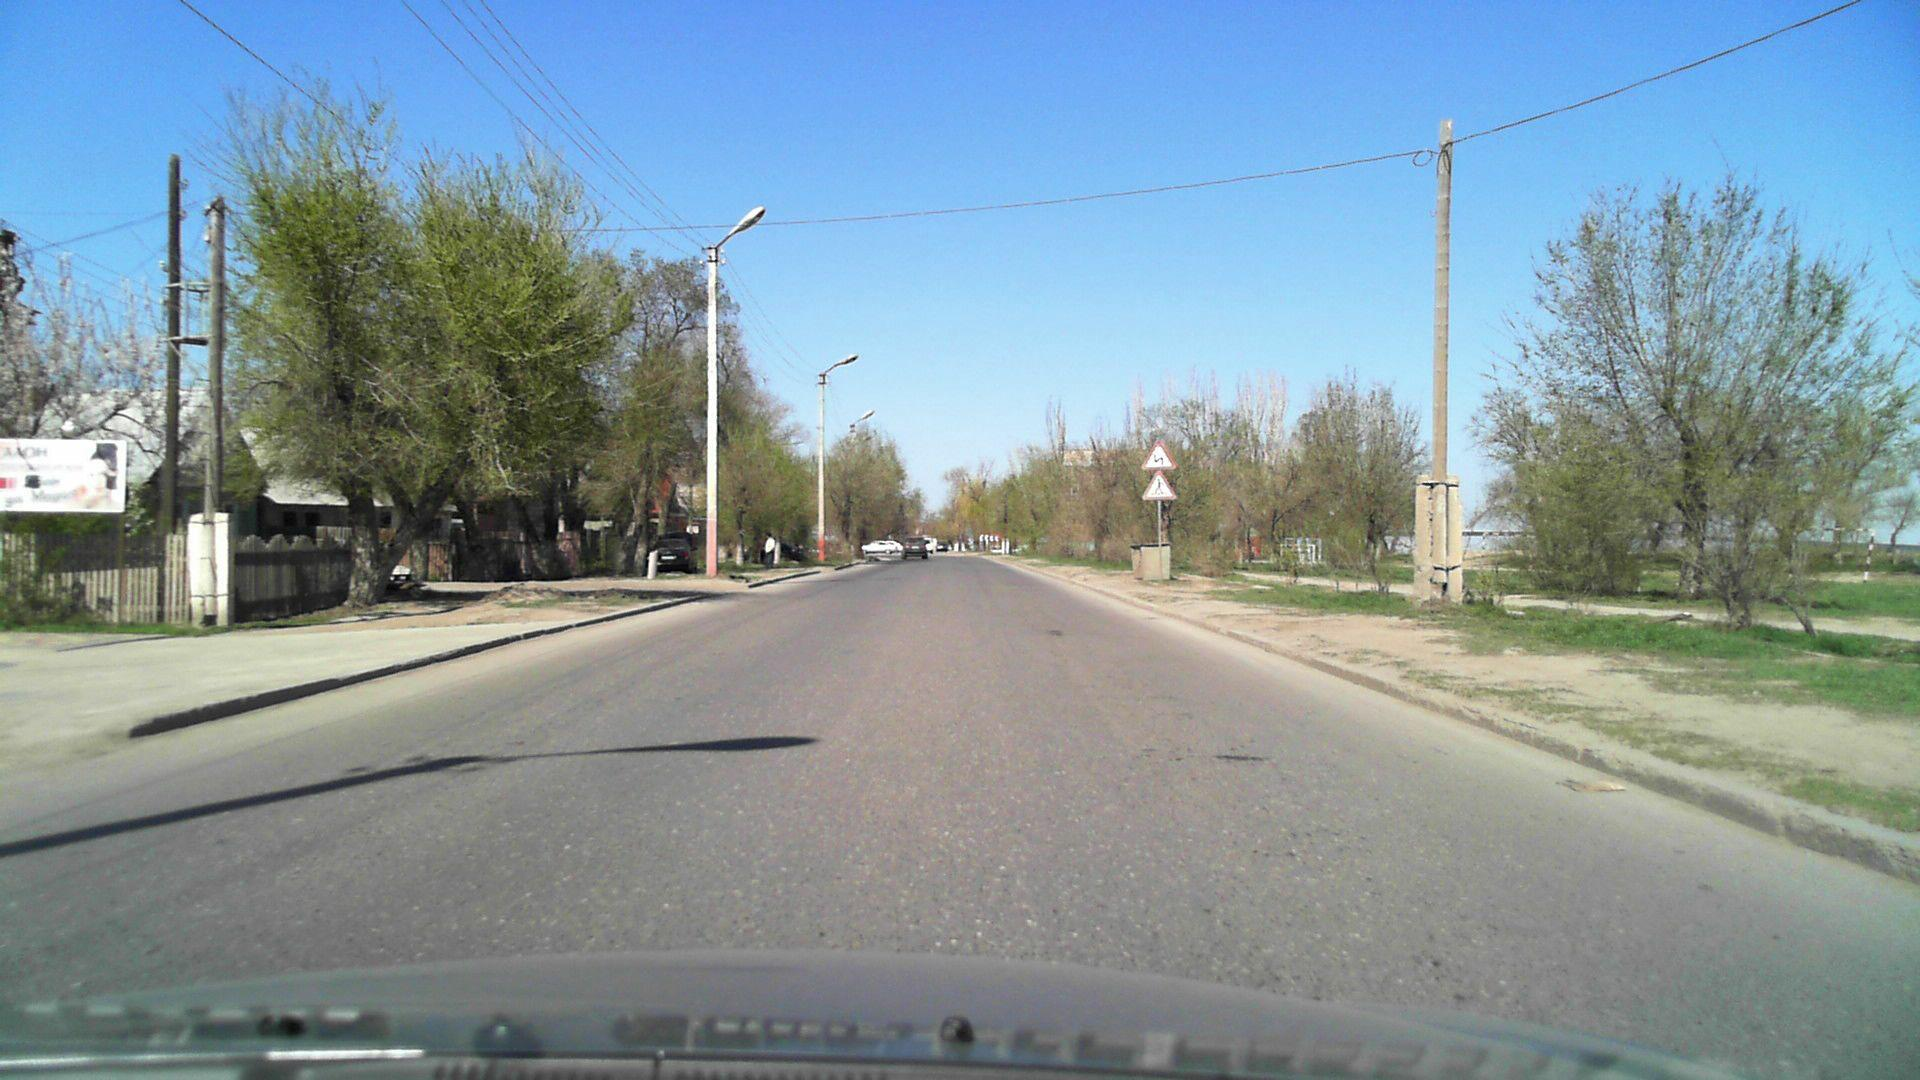1_12_2: (1140, 439, 1175, 469)
1_22: (1140, 471, 1176, 500)
1_34_2: (980, 533, 1000, 543)
